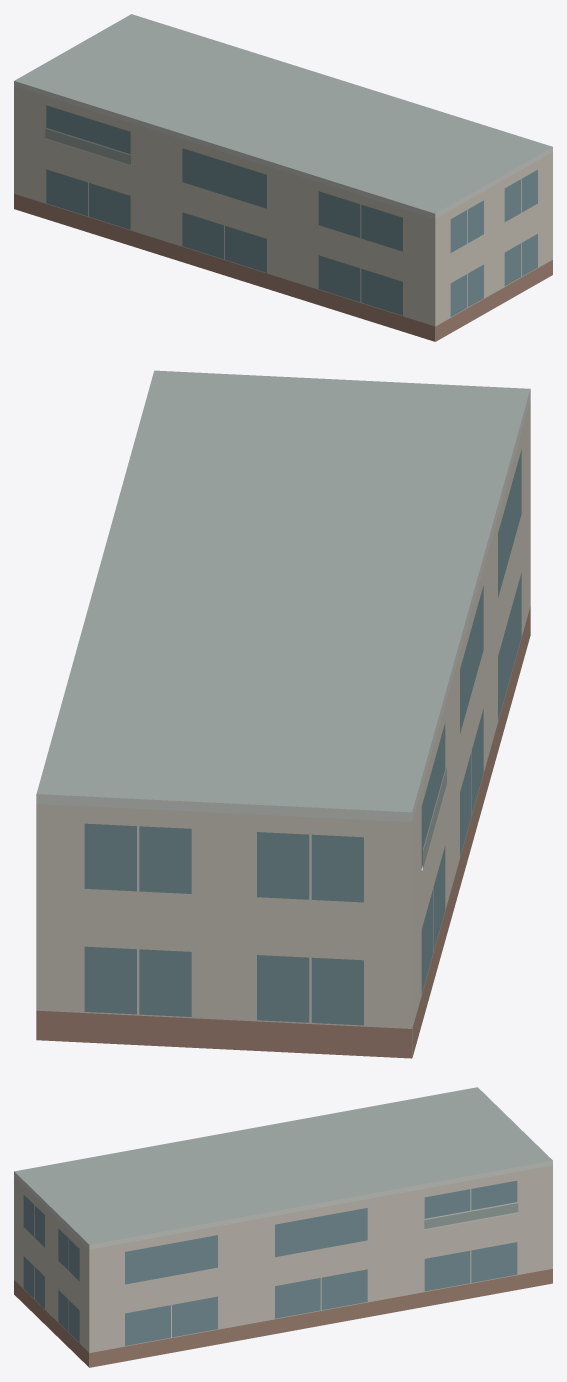
File: survey-upis-32806161.glb
The picture shows the model from 3 angles, top to bottom: view 1: azimuth 30°, elevation 25°; view 2: azimuth 150°, elevation 25°; view 3: azimuth 270°, elevation 25°; orthographic projection. The views are drawn at different scales.
Visible parts, largest first — view 1: survey-upis-32806161.tmp; view 2: survey-upis-32806161.tmp; view 3: survey-upis-32806161.tmp.
Boxes of the visible parts, box(x1,y1,x2,y2) form: survey-upis-32806161.tmp: box(14, 14, 552, 341); survey-upis-32806161.tmp: box(36, 370, 530, 1058); survey-upis-32806161.tmp: box(14, 1087, 552, 1367).
Bounding box in the file's own units: 16.78 × 6.1 × 24.22.
